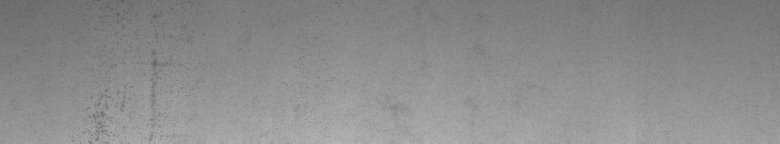ib: (86, 8, 175, 136)
